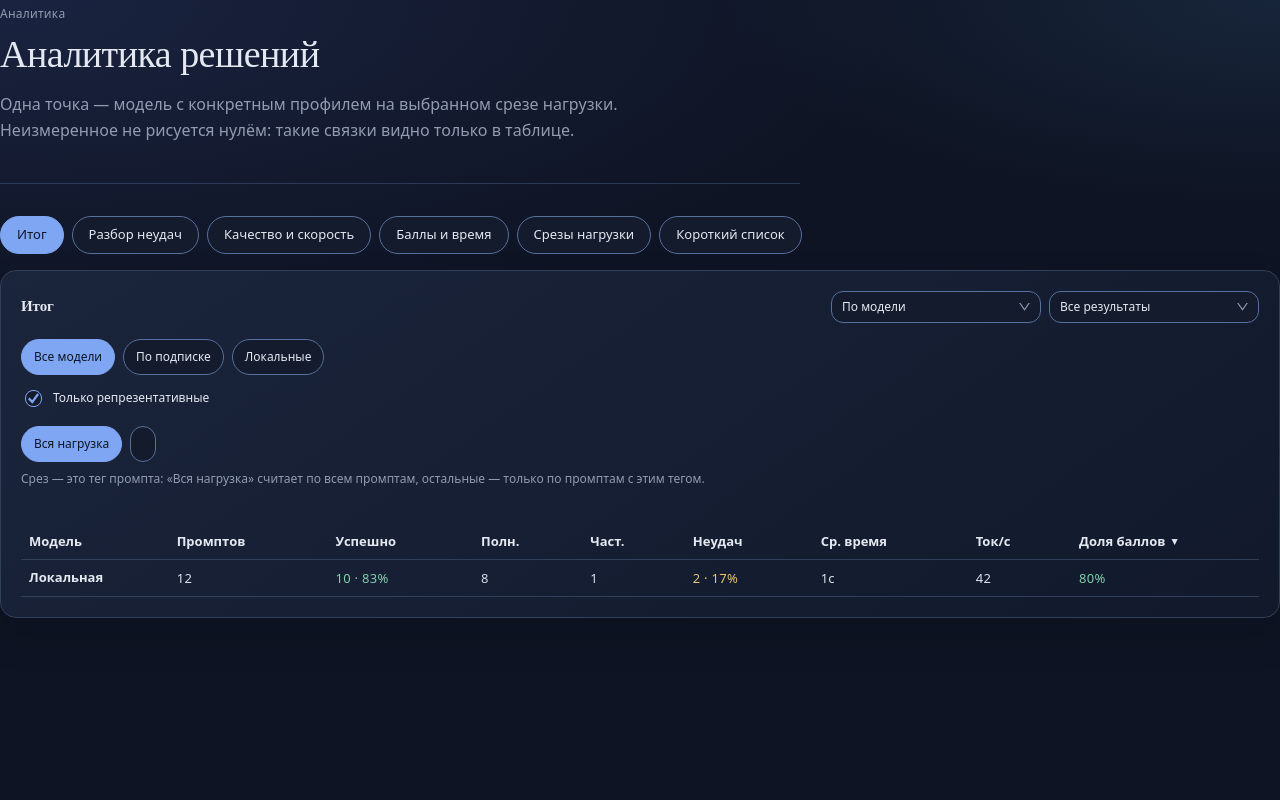
Test: доля неудач › не округляет редкую неудачу в ноль
Click the tab "Качество и скорость": {"x": 289, "y": 235} left=207, top=216, right=371, bottom=254
(page scrolled)
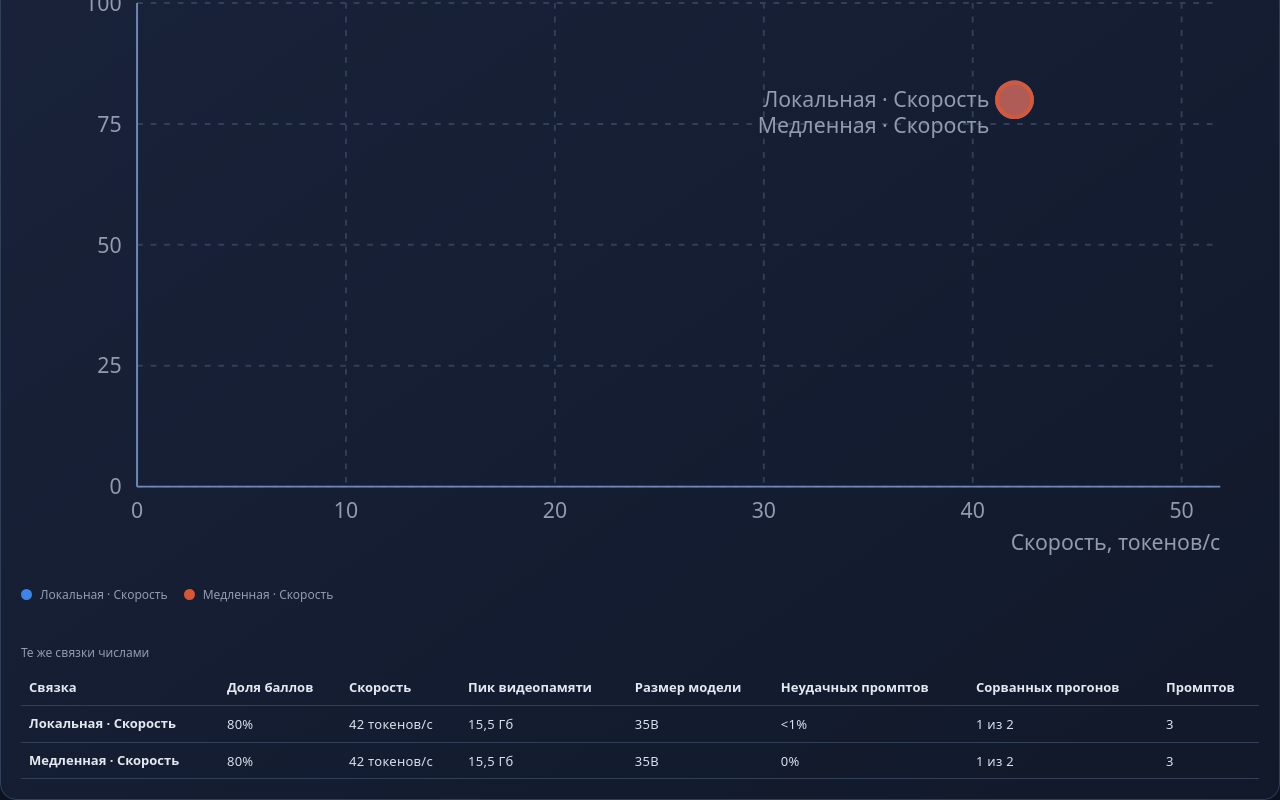
Expected: the text "<1%" is shown, left=773, top=706, right=968, bottom=742
